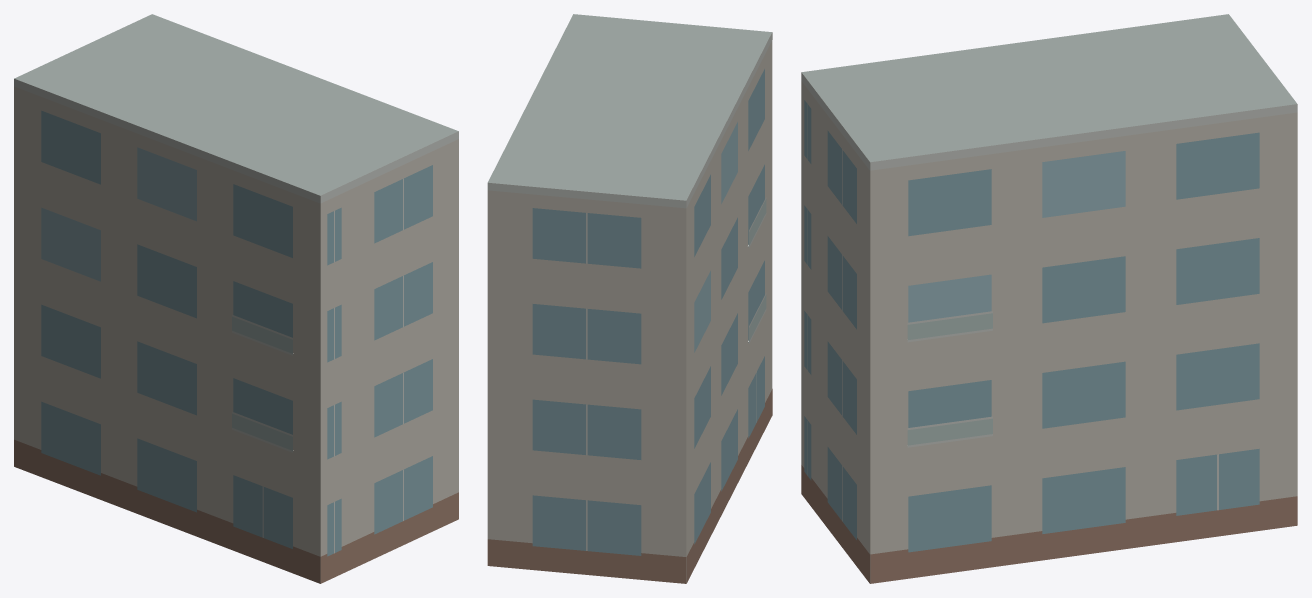
File: residential-1eeef67c-f894-4efa-8d55-ff45e5e7782d.glb
The picture shows the model from 3 angles, left to right: view 1: azimuth 30°, elevation 25°; view 2: azimuth 150°, elevation 25°; view 3: azimuth 270°, elevation 25°; orthographic projection. The views are drawn at different scales.
Visible parts, largest first — view 1: residential-1eeef67c-f894-4efa-8d55-ff45e5e7782d.tmp; view 2: residential-1eeef67c-f894-4efa-8d55-ff45e5e7782d.tmp; view 3: residential-1eeef67c-f894-4efa-8d55-ff45e5e7782d.tmp.
Part boxes in pixels (x1,y1,x2,y2): residential-1eeef67c-f894-4efa-8d55-ff45e5e7782d.tmp: (14, 14, 458, 583); residential-1eeef67c-f894-4efa-8d55-ff45e5e7782d.tmp: (487, 14, 772, 583); residential-1eeef67c-f894-4efa-8d55-ff45e5e7782d.tmp: (801, 14, 1297, 583).
Size of the model in its own units: 9.21 by 12.2 by 13.02.
